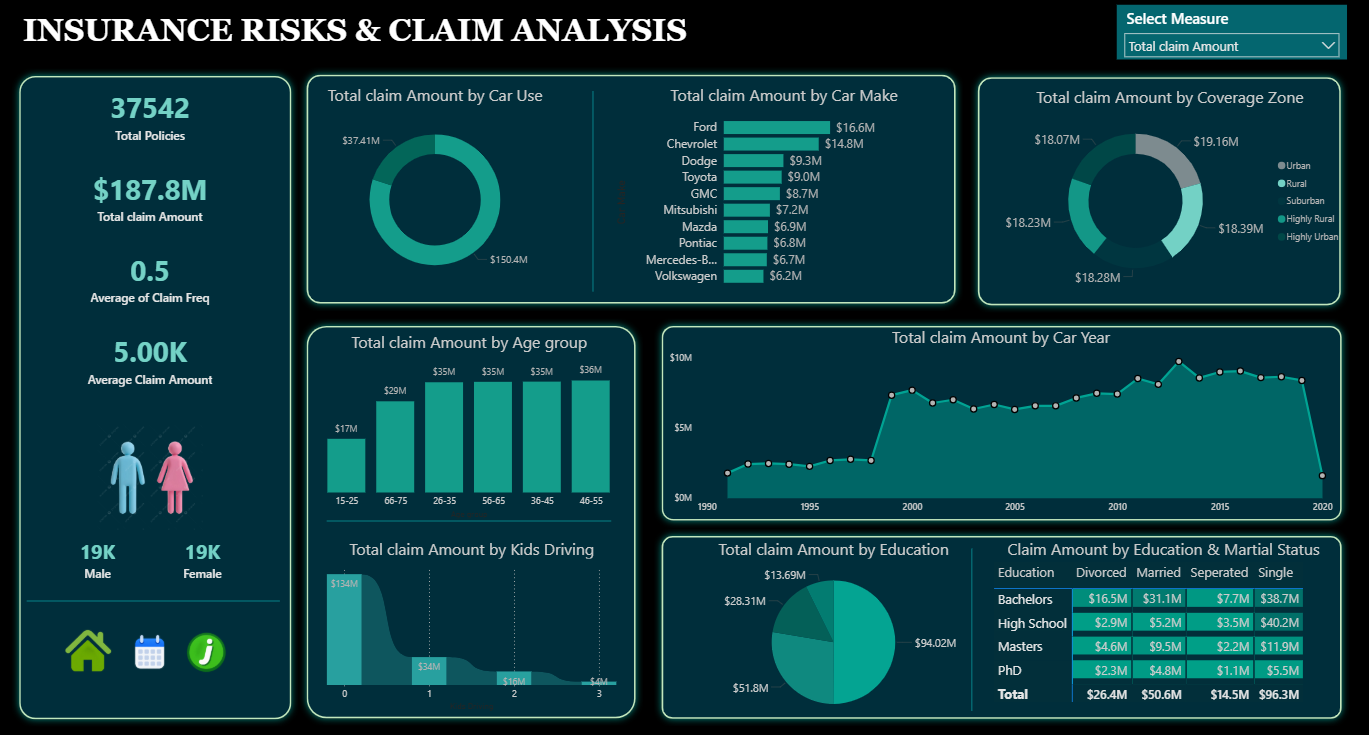

This screenshot's page, from the dashboard's own definition file:
{"tool":"powerbi","page":{"name":"Page 1","canvas":[1850,1000],"ordinal":0},"visuals":[{"type":"textbox","box":[35.2,16.8,965.2,63.7],"z":0},{"type":"shape","box":[25.7,97.7,385.8,884.9],"z":1000},{"type":"cardVisual","fields":{"Data":["insurance_data_car.Total Policies","insurance_data_car.Total claim Amount","Avg(insurance_data_car.Claim Freq)","insurance_data_car.Average  Claim Amount"]},"box":[61.7,97.7,298.4,457.9],"z":2000},{"type":"cardVisual","fields":{"Data":["insurance_data_car.Male Count","insurance_data_car.Female Count"]},"box":[60,699.7,301.8,113.2],"z":3000},{"type":"slicer","fields":{"Values":["Select Measure .Select Measure "]},"box":[1511.5,12.4,309.2,73.9],"z":4000},{"type":"shape","box":[411.7,95.8,892.4,327.7],"z":5000},{"type":"donutChart","fields":{"Y":["insurance_data_car.Total claim Amount"],"Category":["insurance_data_car.Car Use"]},"box":[428.3,118.5,331.7,284.3],"z":6000},{"type":"clusteredBarChart","fields":{"Y":["insurance_data_car.Total claim Amount"],"Category":["insurance_data_car.Car Make"]},"box":[831.9,117.6,463.8,282.3],"z":7000},{"type":"shape","box":[1313.7,98.9,507.7,326.7],"z":8000},{"type":"donutChart","fields":{"Y":["insurance_data_car.Total claim Amount"],"Category":["insurance_data_car.Coverage Zone"]},"box":[1341.1,121,482.3,280.7],"z":9000},{"type":"shape","box":[412.5,434.3,462.1,547.4],"z":10000},{"type":"clusteredColumnChart","fields":{"Y":["insurance_data_car.Total claim Amount"],"Category":["insurance_data_car.Age group"]},"box":[418.5,450.4,443.7,257.1],"z":11000},{"type":"ribbonChart","fields":{"Y":["insurance_data_car.Total claim Amount"],"Category":["insurance_data_car.Kids Driving"]},"box":[421.8,727.7,443.7,238.6],"z":12000},{"type":"shape","box":[888.5,434.3,934.1,281.6],"z":13000},{"type":"lineChart","fields":{"Y":["insurance_data_car.Total claim Amount"],"Category":["insurance_data_car.Car Year"]},"box":[904.4,444.3,902.4,261.8],"z":14000},{"type":"image","box":[68.6,574.5,283,142.3],"z":15000},{"type":"shape","box":[888.5,716,934.1,265.8],"z":16000},{"type":"pieChart","fields":{"Y":["insurance_data_car.Total claim Amount"],"Category":["insurance_data_car.Education"]},"box":[904.2,727.7,452.1,253.8],"z":17000},{"type":"pivotTable","title":"Claim Amount by Education & Martial Status ","fields":{"Values":["insurance_data_car.Total claim Amount"],"Rows":["insurance_data_car.Education"],"Columns":["insurance_data_car.Marital Status"]},"box":[1341.1,727.7,465.5,238.6],"z":18000},{"type":"shape","box":[794.2,127.3,23.5,269.8],"z":19000},{"type":"shape","box":[1304.1,742.2,23.5,218.5],"z":20000},{"type":"shape","box":[448.7,699.1,382.5,13.4],"z":21000},{"type":"shape","box":[45.2,806,340.1,13.4],"z":22000},{"type":"image","box":[83.1,850.5,92.2,60.3],"z":23000},{"type":"image","box":[165.2,852.2,92.2,58.6],"z":24000},{"type":"image","box":[240.6,853.9,93.8,58.6],"z":25000}]}

Visuals, with their boxes in screenshot pixels (x1, y1, x2, y2), scaled from the page's 1850x1000 canvas onto the 1369x735 screenshot:
textbox: 26:12:740:59
shape: 19:72:305:722
cardVisual - insurance_data_car.Total Policies x insurance_data_car.Total claim Amount: 46:72:266:408
cardVisual - insurance_data_car.Male Count x insurance_data_car.Female Count: 44:514:268:597
slicer - Select Measure .Select Measure : 1119:9:1347:63
shape: 305:70:965:311
donutChart - insurance_data_car.Total claim Amount x insurance_data_car.Car Use: 317:87:562:296
clusteredBarChart - insurance_data_car.Total claim Amount x insurance_data_car.Car Make: 616:86:959:294
shape: 972:73:1348:313
donutChart - insurance_data_car.Total claim Amount x insurance_data_car.Coverage Zone: 992:89:1349:295
shape: 305:319:647:722
clusteredColumnChart - insurance_data_car.Total claim Amount x insurance_data_car.Age group: 310:331:638:520
ribbonChart - insurance_data_car.Total claim Amount x insurance_data_car.Kids Driving: 312:535:640:710
shape: 657:319:1349:526
lineChart - insurance_data_car.Total claim Amount x insurance_data_car.Car Year: 669:327:1337:519
image: 51:422:260:527
shape: 657:526:1349:722
pieChart - insurance_data_car.Total claim Amount x insurance_data_car.Education: 669:535:1004:721
"Claim Amount by Education & Martial Status " pivotTable: 992:535:1337:710
shape: 588:94:605:292
shape: 965:546:982:706
shape: 332:514:615:524
shape: 33:592:285:602
image: 61:625:130:669
image: 122:626:190:669
image: 178:628:247:671
